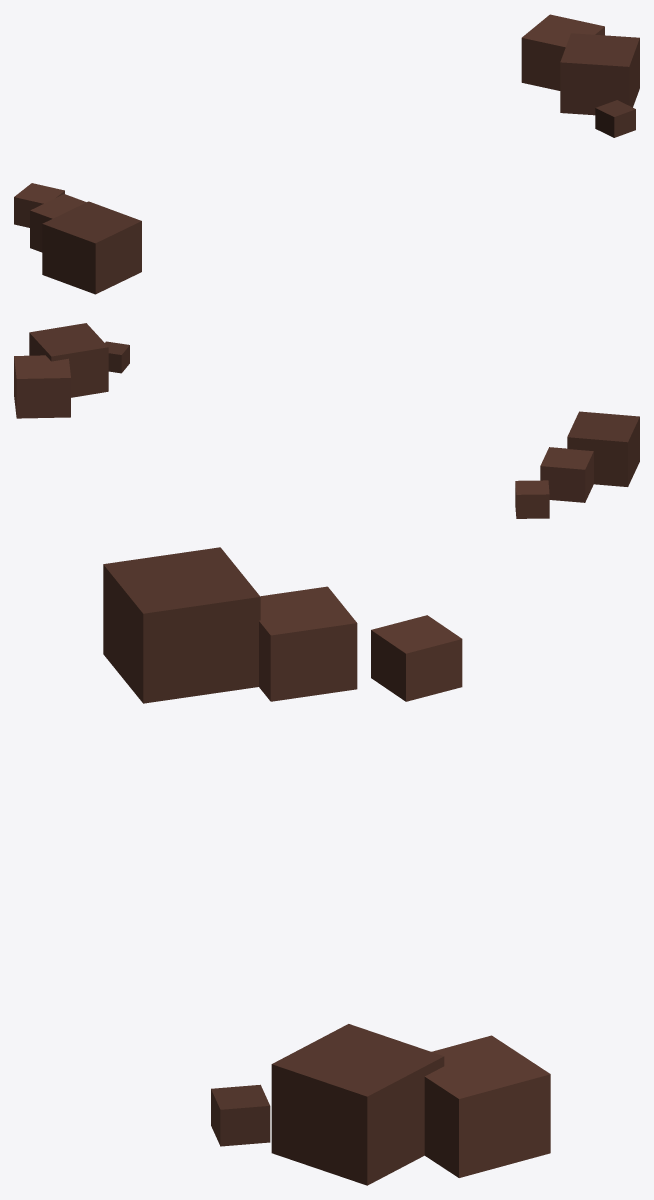
The model's file is breach_lip_detail1.glb.
3 renders of one model, top to bottom at view 1: azimuth 30°, elevation 25°; view 2: azimuth 150°, elevation 25°; view 3: azimuth 270°, elevation 25°, orthographic. The views are drawn at different scales.
Parts seen in each view (by area): view 1: breach_lip_detail1; view 2: breach_lip_detail1; view 3: breach_lip_detail1.
Boxes of the visible parts, x1,y1,x2,y2 form: breach_lip_detail1: (14,14,639,294); breach_lip_detail1: (14,323,639,518); breach_lip_detail1: (103,547,550,1185).
Bounding box in the file's own units: 11.06 × 0.8449 × 3.81.
